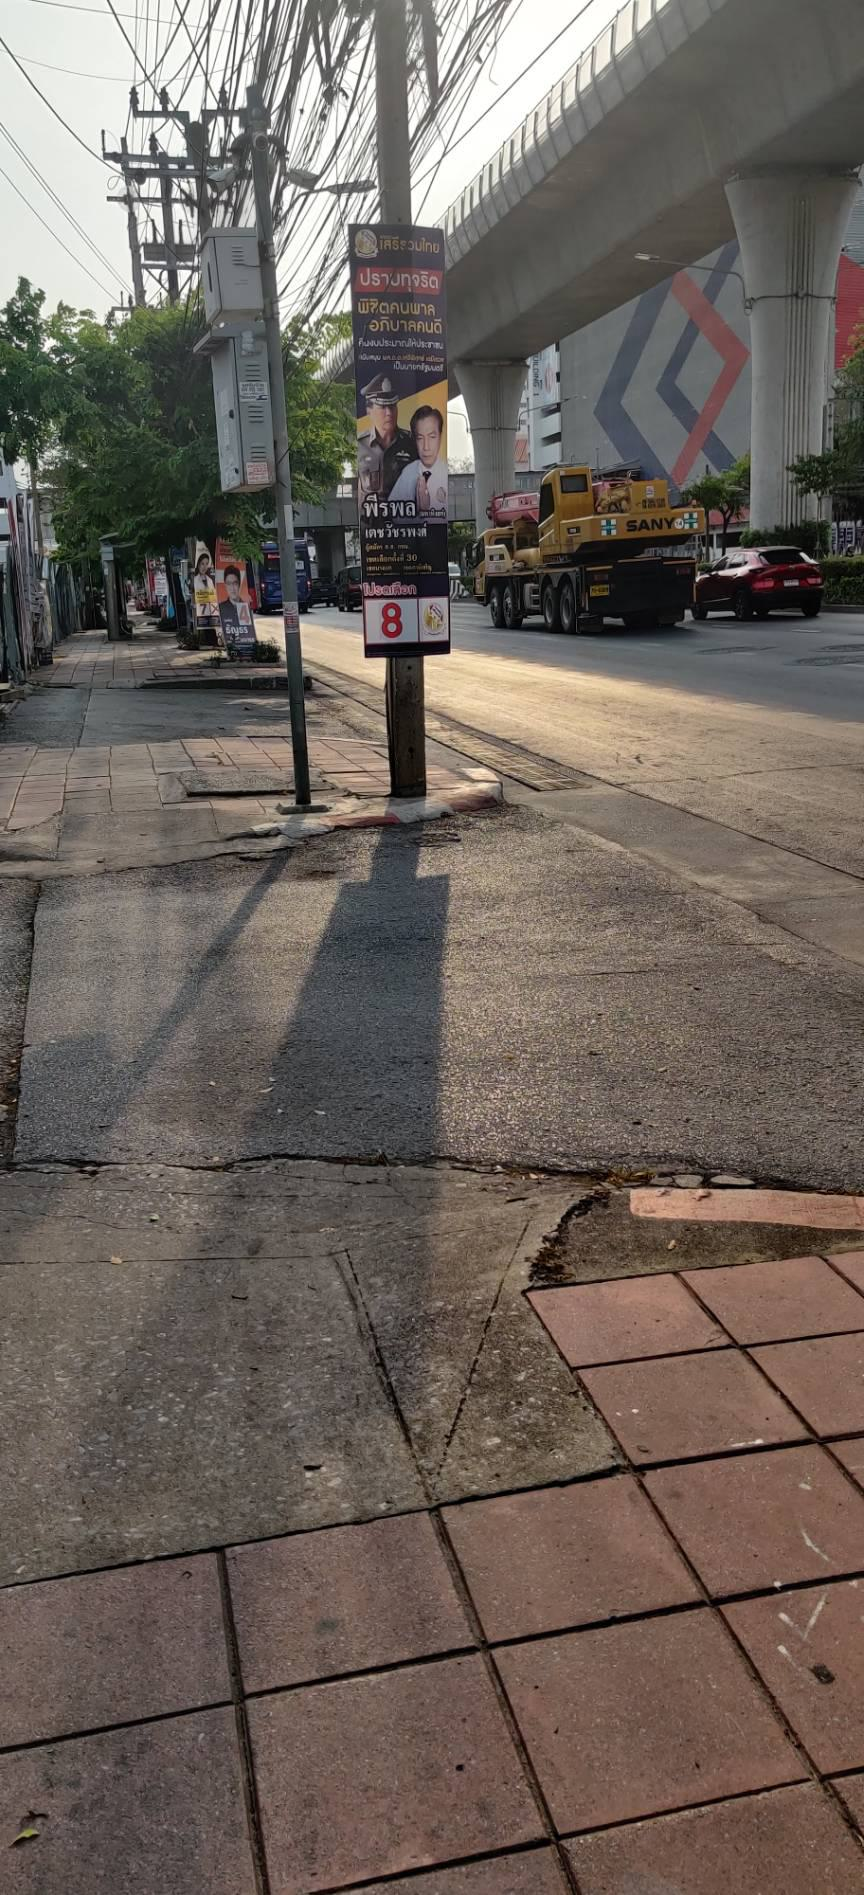Banner: (341, 215, 456, 661)
